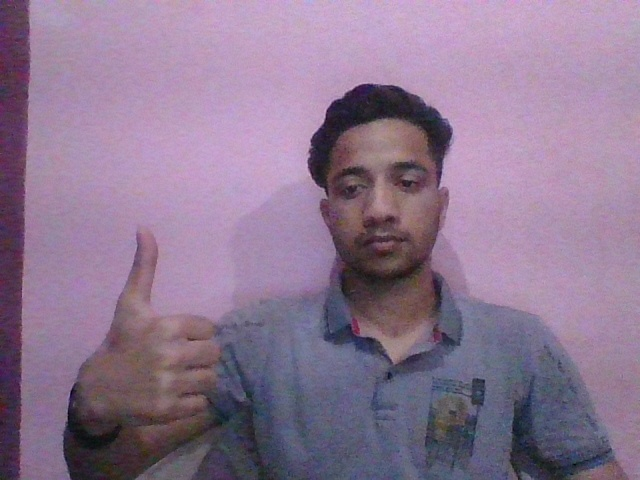thumbsup: (82, 229, 217, 411)
